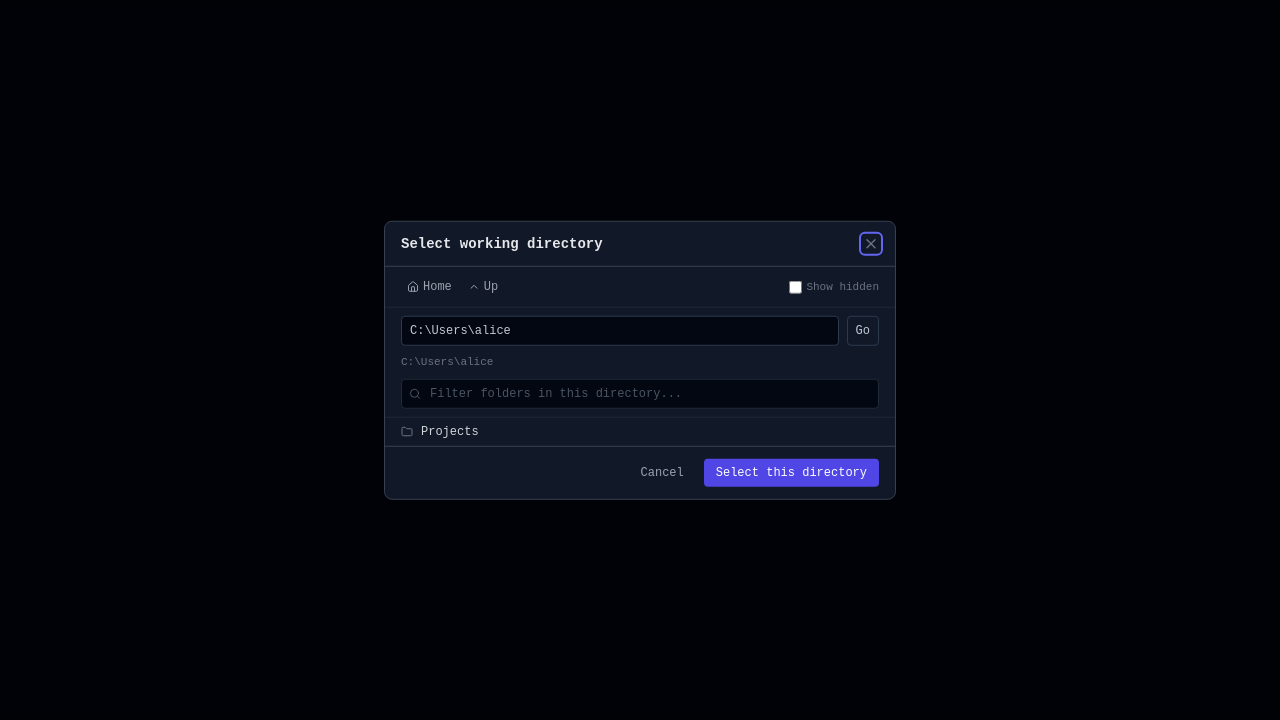
Test: FolderPicker — navigation (Windows) › joins child paths using the backslash separator returned by the API
Click the button "Projects".
click(450, 431)  # box [385,417,895,445]
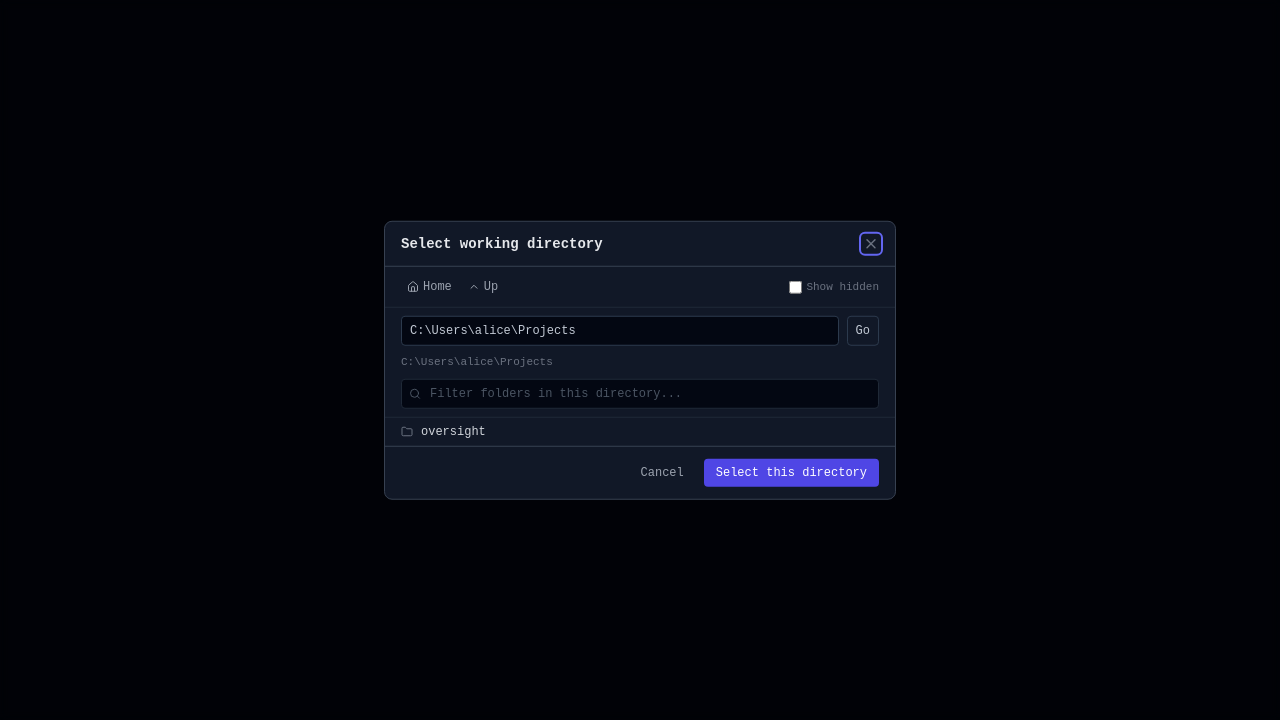
Result: the text "oversight" is shown at [421,423,486,439]
Result: the text "C:\\Users\\alice\\Projects" is shown at [401,356,553,368]
